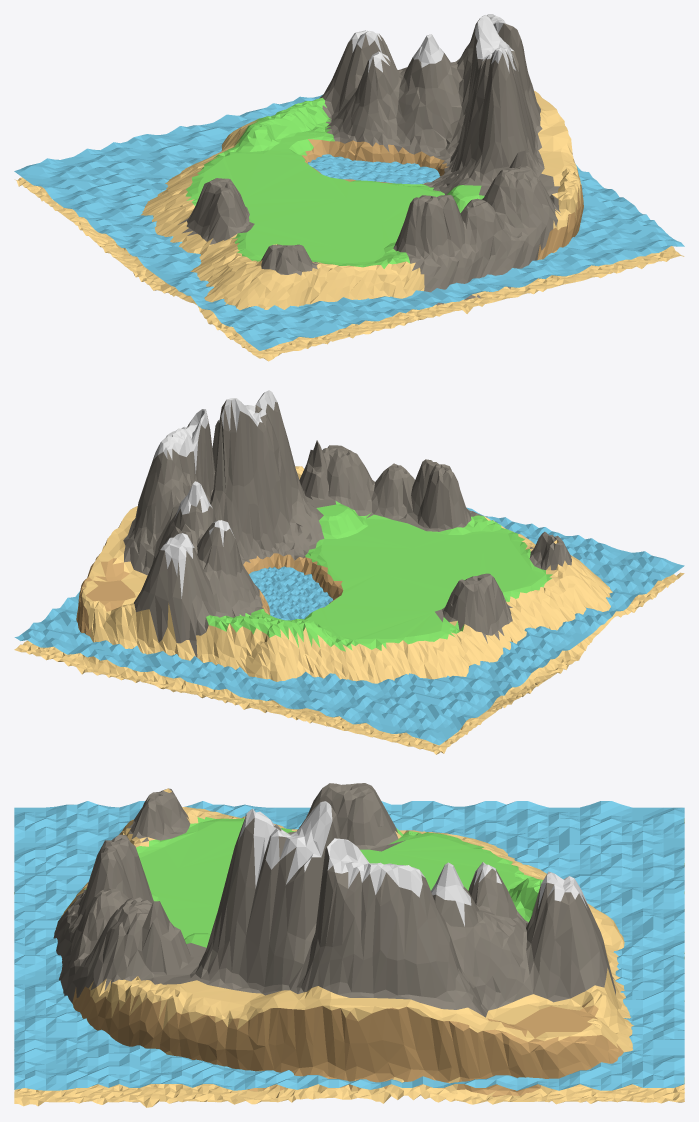
The model's file is Island.fbx.
The picture shows the model from 3 angles, top to bottom: view 1: azimuth 30°, elevation 25°; view 2: azimuth 150°, elevation 25°; view 3: azimuth 270°, elevation 25°; orthographic projection. The views are drawn at different scales.
Parts seen in each view (by area): view 1: 평면, 평면.001, 평면.002; view 2: 평면, 평면.001, 평면.002; view 3: 평면, 평면.001.
Part boxes in pixels (box(x1,y1,x2,y2)): 평면: box(14, 14, 684, 361); 평면.001: box(14, 94, 684, 350); 평면.002: box(308, 154, 440, 184); 평면: box(14, 390, 684, 754); 평면.001: box(14, 507, 684, 745); 평면.002: box(249, 566, 332, 620); 평면: box(14, 783, 684, 1107); 평면.001: box(14, 801, 684, 1090).
Size of the model in its own units: 200 by 88.07 by 200.
